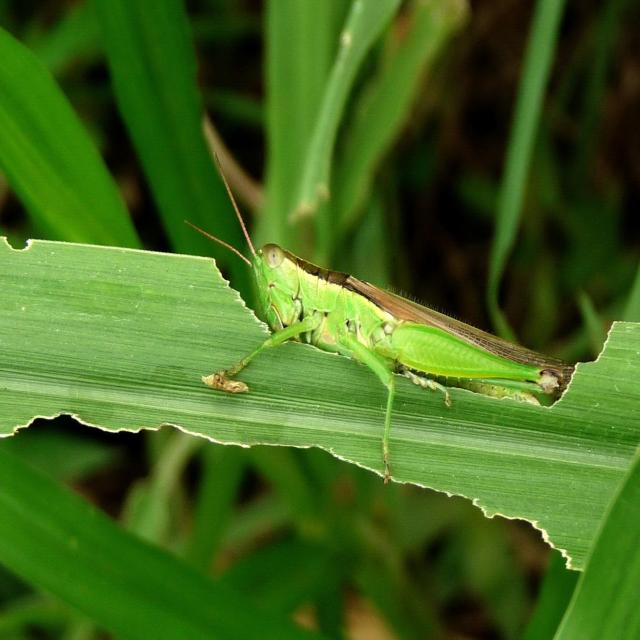ZhaMeng: (175, 149, 591, 444)
